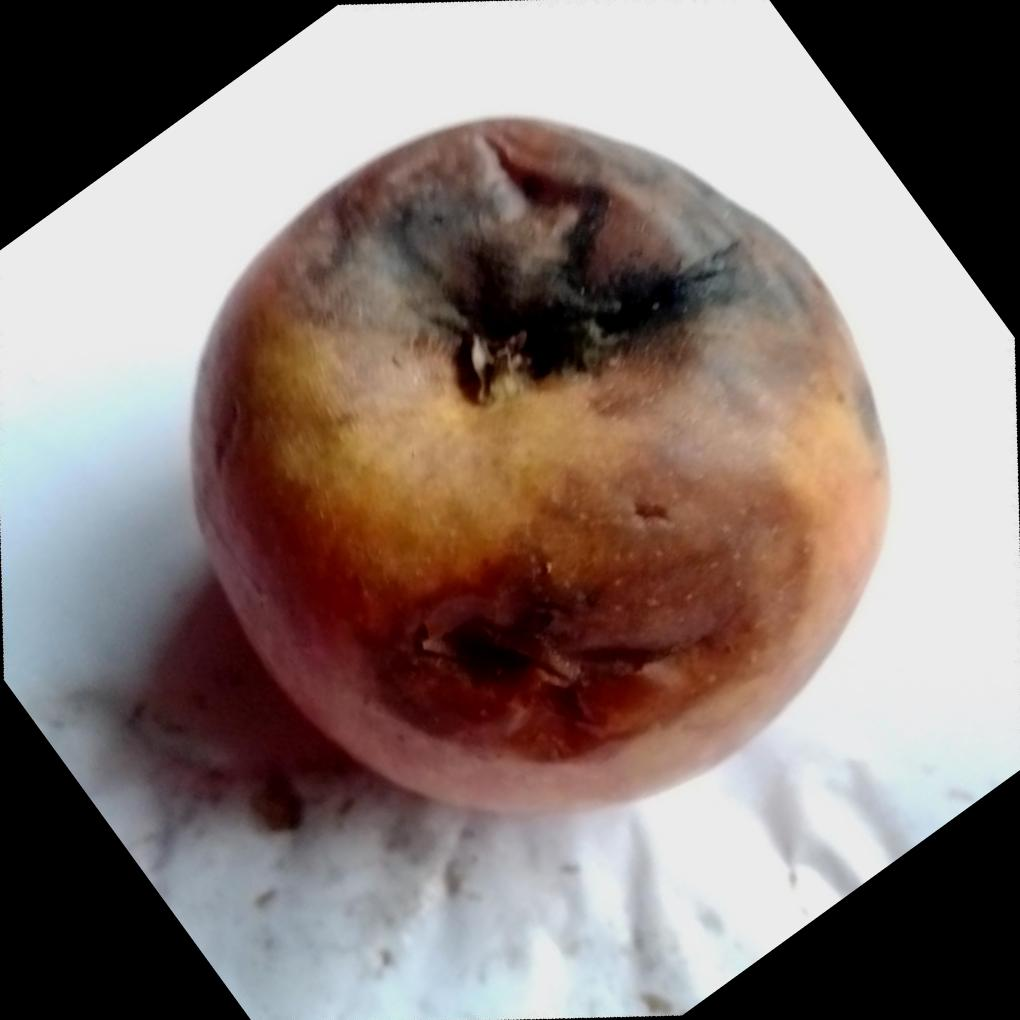FreshOrange: (184, 114, 888, 821)
